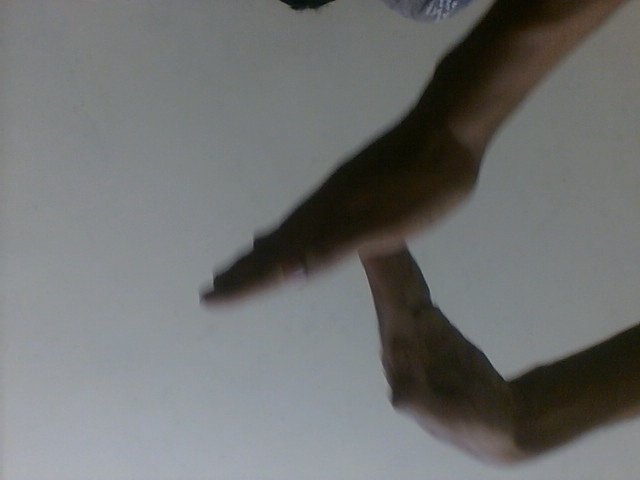hand: (191, 102, 496, 318), (350, 229, 527, 475)
